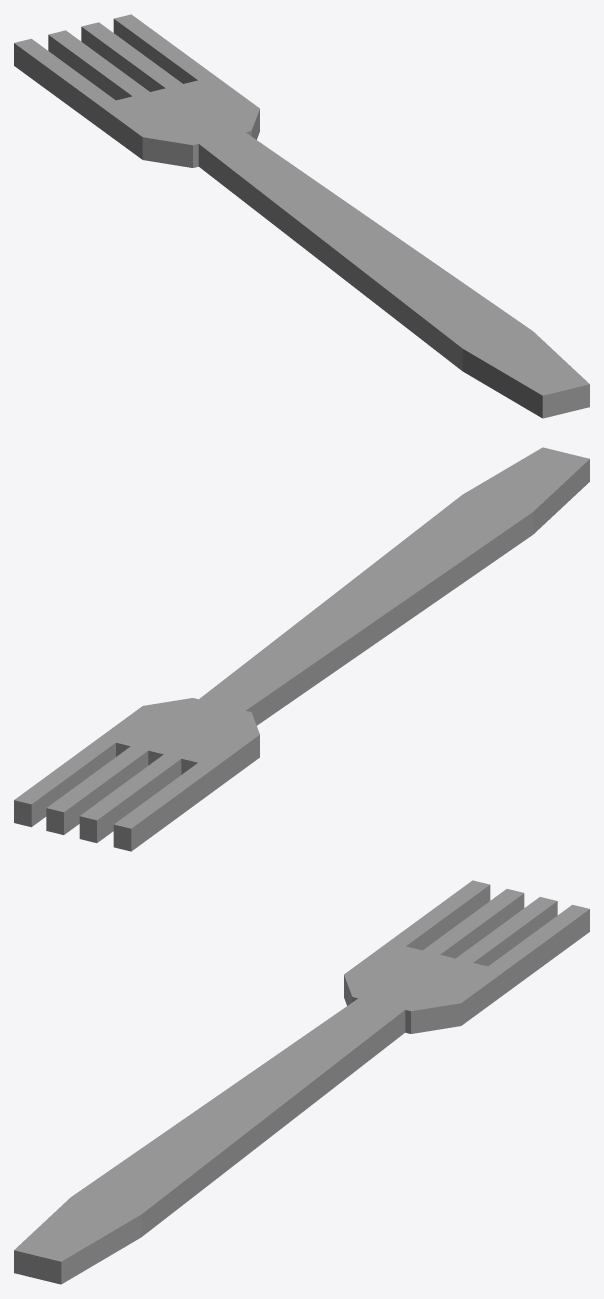
Rendered from Fork_1.fbx.
3 views of the same model, one above another, from view 1: azimuth 30°, elevation 25°; view 2: azimuth 150°, elevation 25°; view 3: azimuth 330°, elevation 25° (orthographic).
Visible parts, largest first — view 1: Fork_1; view 2: Fork_1; view 3: Fork_1.
Part boxes in pixels (x1=…): Fork_1: x1=14, y1=14, x2=589, y2=418; Fork_1: x1=14, y1=447, x2=589, y2=851; Fork_1: x1=14, y1=880, x2=589, y2=1284.
Bounding box in the file's own units: 3.71 × 27.03 × 0.69.
